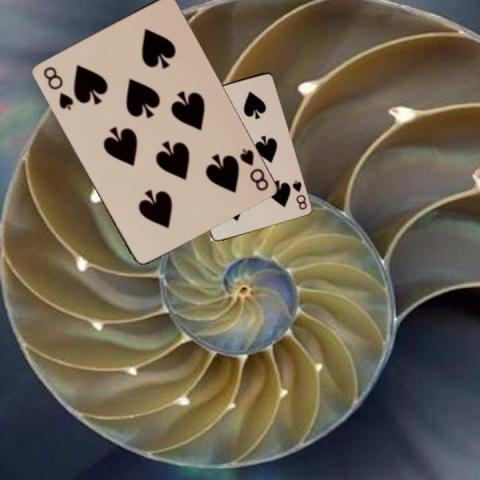8s: (40, 63, 75, 112), (236, 145, 270, 193), (289, 177, 308, 211)
